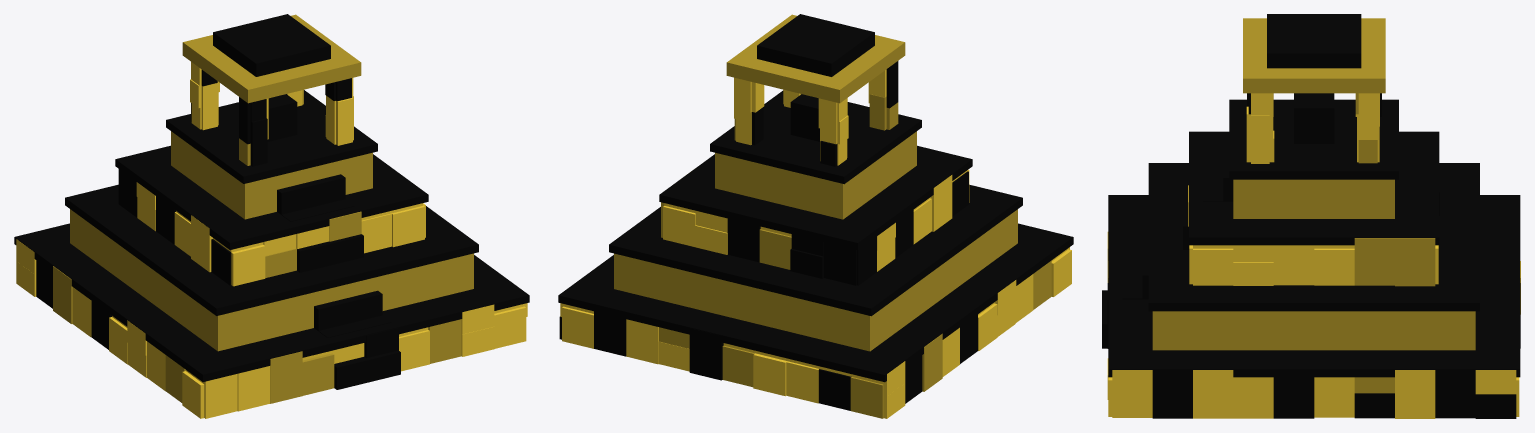
Rendered from Ziggurat.obj.
3 views of the same model, side by side, from view 1: azimuth 30°, elevation 25°; view 2: azimuth 150°, elevation 25°; view 3: azimuth 270°, elevation 25° (orthographic). The views are drawn at different scales.
Visible parts, largest first — view 1: Ziggurat; view 2: Ziggurat; view 3: Ziggurat.
Boxes of the visible parts, x1=… form: Ziggurat: x1=14, y1=14, x2=529, y2=418; Ziggurat: x1=558, y1=14, x2=1073, y2=418; Ziggurat: x1=1102, y1=14, x2=1520, y2=418.
Size of the model in its own units: 30.69 by 24.4 by 31.1.
